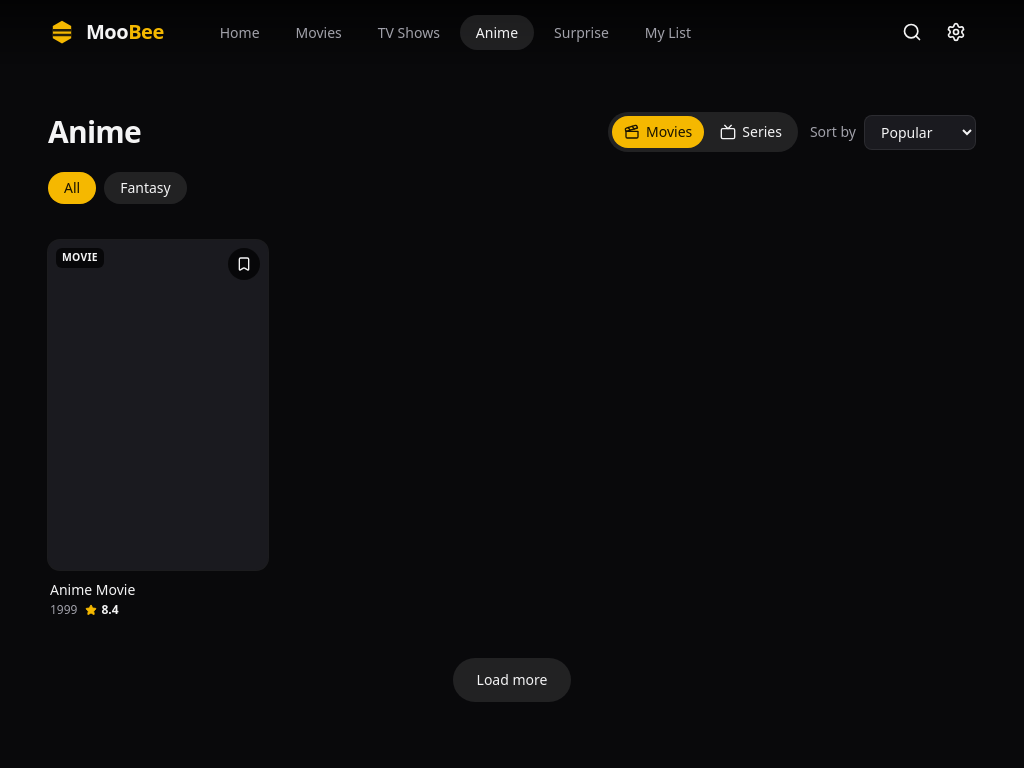
Test: Anime browse page › clears the genre filter when switching between movies and series
Check: the heading "Anime Movie" is shown, box [50,580,135,599]
Click the button "Fantasy" at coordinates (145, 188), box [104,172,187,204]
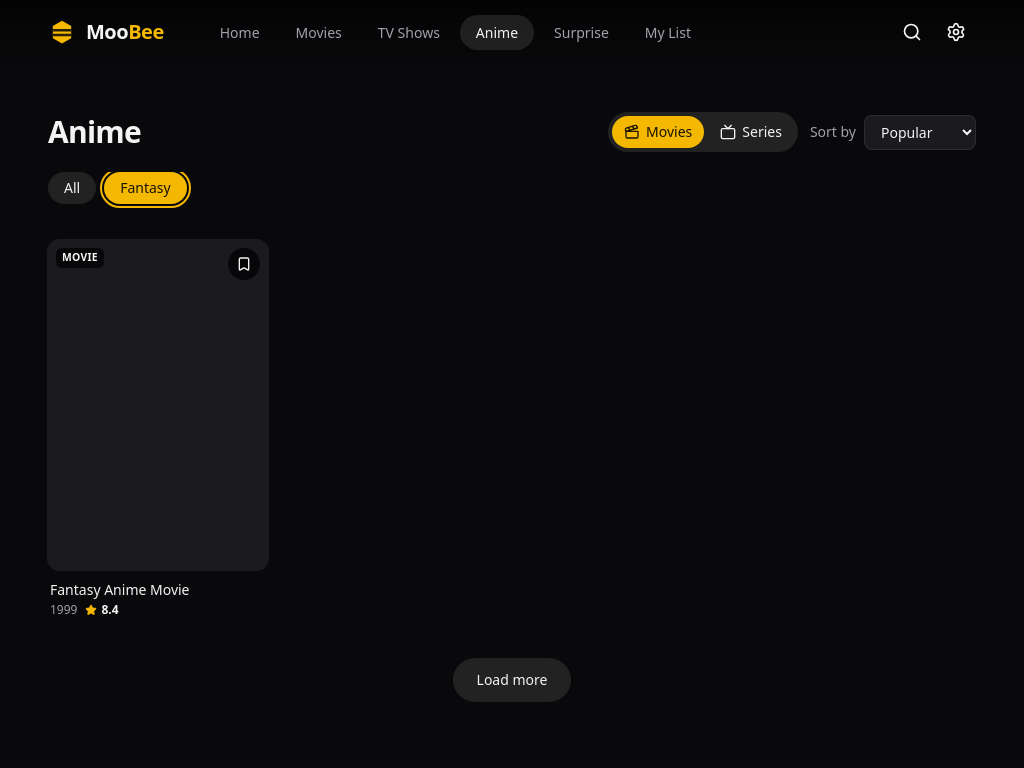
Check: the heading "Fantasy Anime Movie" is shown, box [50,580,190,599]
Click the button "Series" at coordinates (751, 132), box [708,116,794,148]
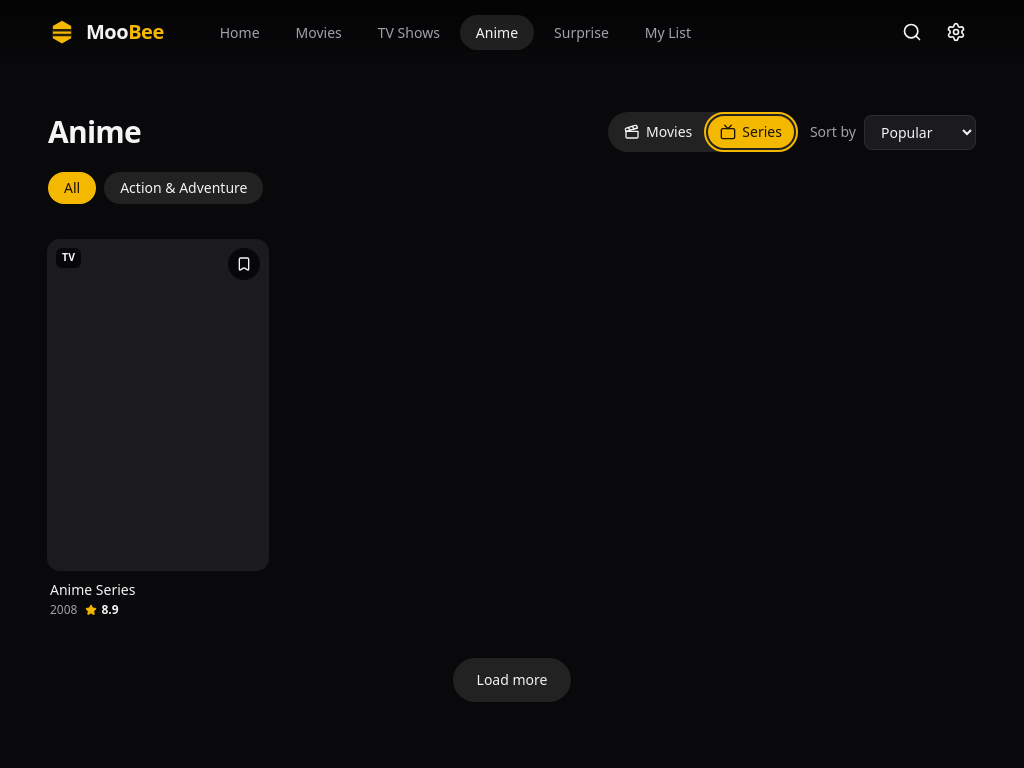
Check: the heading "Anime Series" is shown, box [50,580,135,599]
